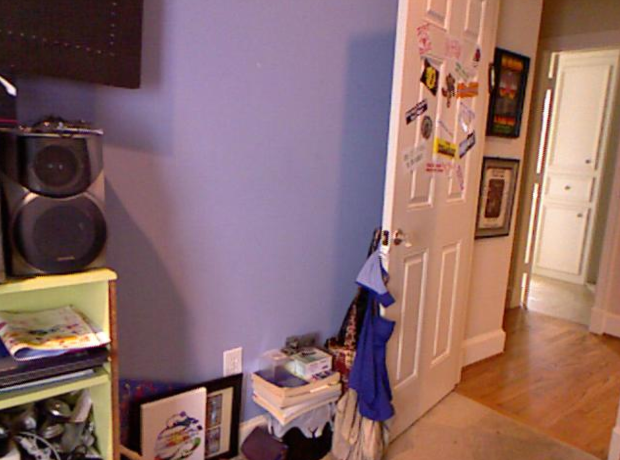cabinet: (2, 261, 123, 460)
cabinetDoor: (562, 68, 599, 168), (547, 206, 583, 270), (549, 179, 586, 197)
door: (368, 1, 498, 439)
openedDoor: (373, 1, 619, 443)
